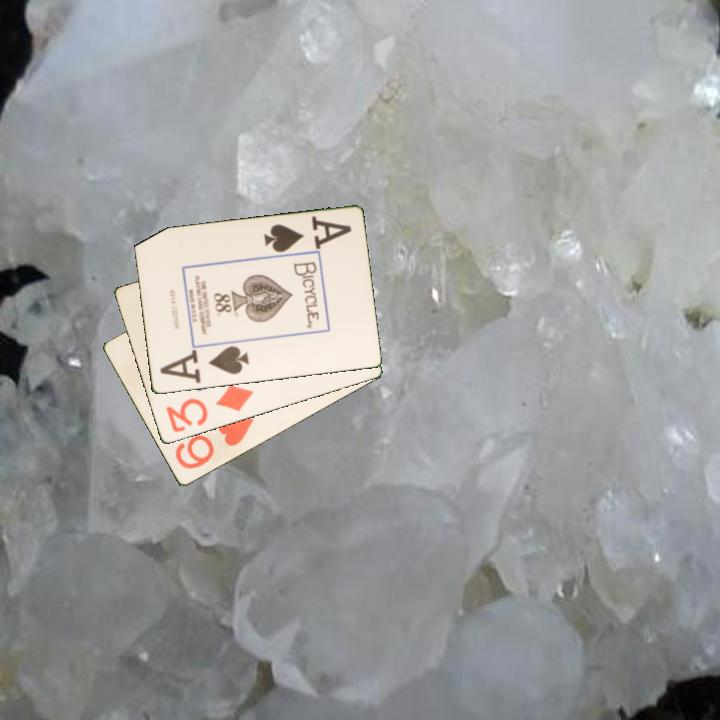3d: (162, 381, 256, 436)
6h: (171, 414, 257, 473)
As: (260, 213, 354, 256), (165, 343, 252, 378)
